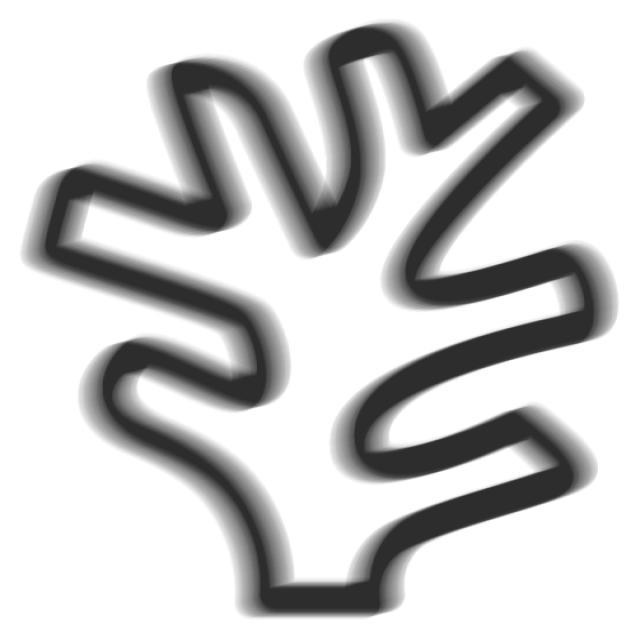coral: (13, 18, 629, 634)
